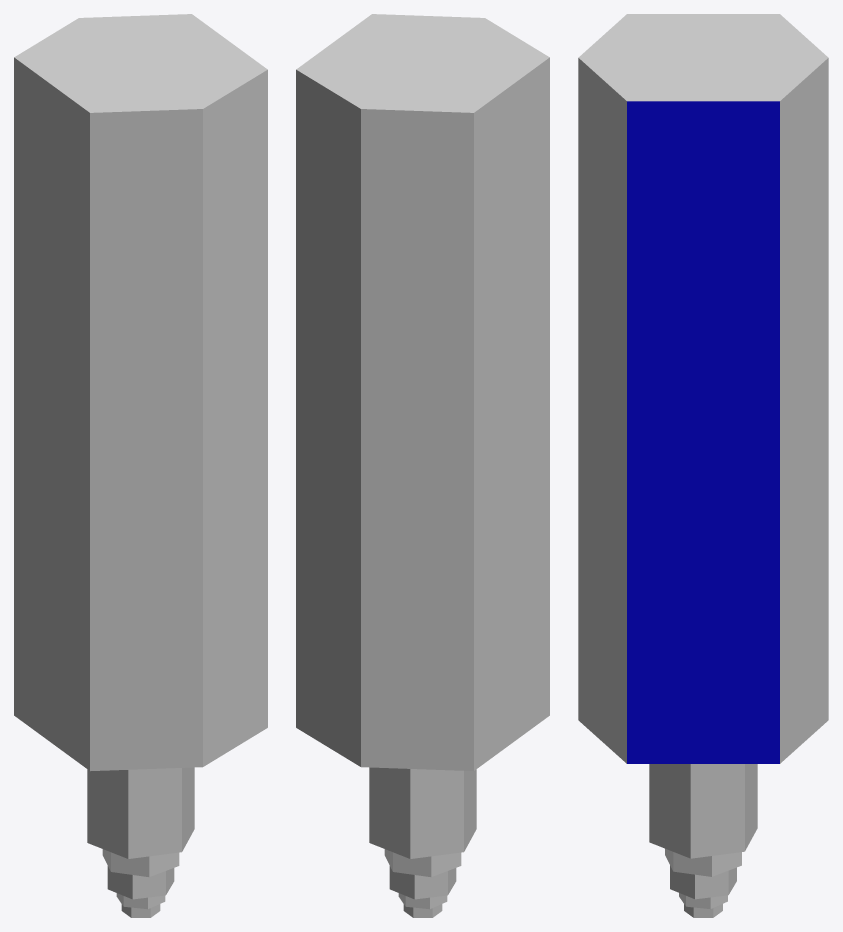
File: generator.fbx
3 views of the same model, side by side, from view 1: azimuth 30°, elevation 25°; view 2: azimuth 150°, elevation 25°; view 3: azimuth 270°, elevation 25° (orthographic).
Visible parts, largest first — view 1: Circle.005; view 2: Circle.005; view 3: Circle.005.
Boxes of the visible parts, left/top/right/bottom form: Circle.005: left=14, top=14, right=267, bottom=917; Circle.005: left=296, top=14, right=549, bottom=917; Circle.005: left=578, top=14, right=828, bottom=917.
Size of the model in its own units: 1059 by 4822 by 1281.
